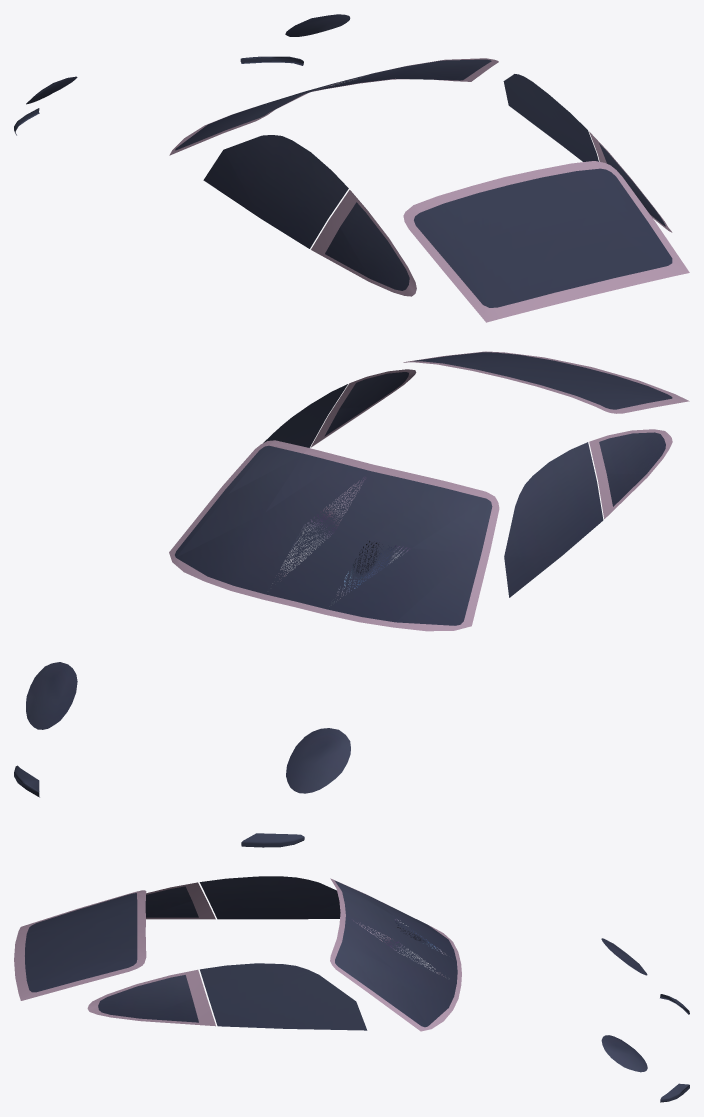
The model's file is ventanas.obj.
3 renders of one model, top to bottom at view 1: azimuth 30°, elevation 25°; view 2: azimuth 150°, elevation 25°; view 3: azimuth 270°, elevation 25°, orthographic. The views are drawn at different scales.
Parts seen in each view (by area): view 1: part_003; view 2: part_003; view 3: part_003.
Boxes of the visible parts, left/top/right/bottom form: part_003: left=14, top=14, right=689, bottom=322; part_003: left=14, top=351, right=689, bottom=847; part_003: left=14, top=876, right=689, bottom=1102.
Size of the model in its own units: 1.52 by 0.8515 by 3.75.
1 material, 1 textured.
